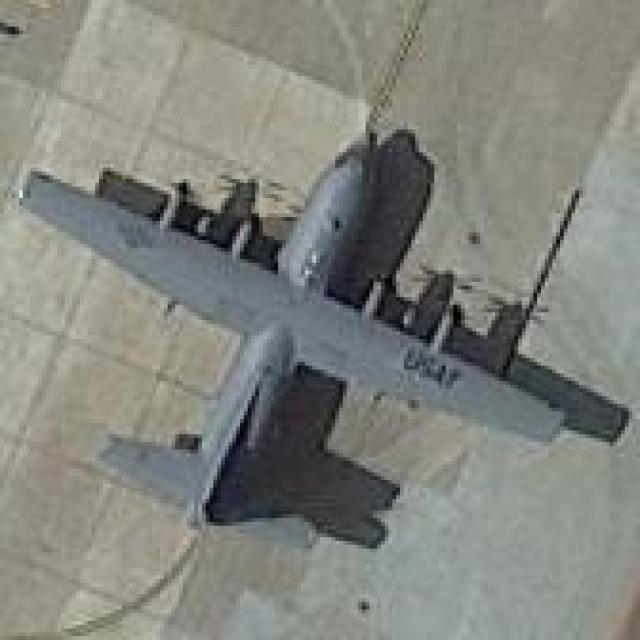C-130_TopDown: (13, 119, 632, 555)
